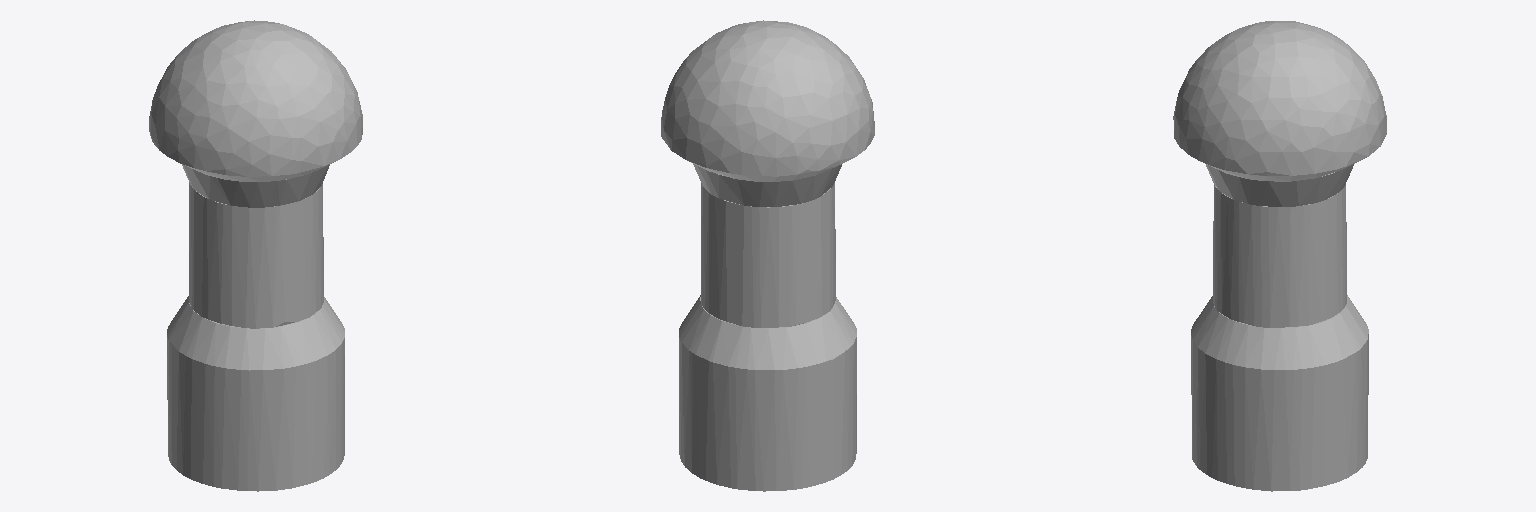
robot.urdf — root:
<robot name="root">
  <link name="link_mushroom_convex_piece_0">
    <inertial>
      <origin xyz="0 0 0" rpy="0 0 0"/>
      <mass value="5.68E-02"/>
      <inertia ixx="1.40E-04" ixy="3.68E-09" ixz="1.47E-09" iyy="1.40E-04" iyz="2.48E-08" izz="2.16E-05"/>
    </inertial>
    <visual>
      <origin xyz="0 0 0" rpy="0 0 0"/>
      <geometry>
        <mesh filename="mushroom_convex_piece_0.obj" scale="1.0000E+00 1.0000E+00 1.0000E+00"/>
      </geometry>
      <material name="">
        <color rgba="7.50E-01 7.50E-01 7.50E-01 1"/>
      </material>
    </visual>
    <collision>
      <origin xyz="0 0 0" rpy="0 0 0"/>
      <geometry>
        <mesh filename="mushroom_convex_piece_0.obj" scale="1.0000E+00 1.0000E+00 1.0000E+00"/>
      </geometry>
    </collision>
  </link>
  <link name="link_mushroom_convex_piece_1">
    <inertial>
      <origin xyz="0 0 0" rpy="0 0 0"/>
      <mass value="1.04E-02"/>
      <inertia ixx="8.94E-06" ixy="-1.10E-09" ixz="4.95E-10" iyy="8.94E-06" iyz="6.99E-10" izz="2.34E-06"/>
    </inertial>
    <visual>
      <origin xyz="0 0 0" rpy="0 0 0"/>
      <geometry>
        <mesh filename="mushroom_convex_piece_1.obj" scale="1.0000E+00 1.0000E+00 1.0000E+00"/>
      </geometry>
      <material name="">
        <color rgba="7.50E-01 7.50E-01 7.50E-01 1"/>
      </material>
    </visual>
    <collision>
      <origin xyz="0 0 0" rpy="0 0 0"/>
      <geometry>
        <mesh filename="mushroom_convex_piece_1.obj" scale="1.0000E+00 1.0000E+00 1.0000E+00"/>
      </geometry>
    </collision>
  </link>
  <joint name="link_mushroom_convex_piece_1_joint" type="fixed">
    <origin xyz="0 0 0" rpy="0 0 0"/>
    <parent link="link_mushroom_convex_piece_0"/>
    <child link="link_mushroom_convex_piece_1"/>
  </joint>
  <link name="link_mushroom_convex_piece_2">
    <inertial>
      <origin xyz="0 0 0" rpy="0 0 0"/>
      <mass value="3.35E-02"/>
      <inertia ixx="7.45E-06" ixy="3.29E-09" ixz="-1.00E-09" iyy="7.46E-06" iyz="-9.29E-10" izz="6.24E-06"/>
    </inertial>
    <visual>
      <origin xyz="0 0 0" rpy="0 0 0"/>
      <geometry>
        <mesh filename="mushroom_convex_piece_2.obj" scale="1.0000E+00 1.0000E+00 1.0000E+00"/>
      </geometry>
      <material name="">
        <color rgba="7.50E-01 7.50E-01 7.50E-01 1"/>
      </material>
    </visual>
    <collision>
      <origin xyz="0 0 0" rpy="0 0 0"/>
      <geometry>
        <mesh filename="mushroom_convex_piece_2.obj" scale="1.0000E+00 1.0000E+00 1.0000E+00"/>
      </geometry>
    </collision>
  </link>
  <joint name="link_mushroom_convex_piece_2_joint" type="fixed">
    <origin xyz="0 0 0" rpy="0 0 0"/>
    <parent link="link_mushroom_convex_piece_1"/>
    <child link="link_mushroom_convex_piece_2"/>
  </joint>
  <link name="link_mushroom_convex_piece_3">
    <inertial>
      <origin xyz="0 0 0" rpy="0 0 0"/>
      <mass value="7.11E-02"/>
      <inertia ixx="1.48E-04" ixy="3.34E-09" ixz="2.34E-08" iyy="1.48E-04" iyz="-5.17E-09" izz="2.23E-05"/>
    </inertial>
    <visual>
      <origin xyz="0 0 0" rpy="0 0 0"/>
      <geometry>
        <mesh filename="mushroom_convex_piece_3.obj" scale="1.0000E+00 1.0000E+00 1.0000E+00"/>
      </geometry>
      <material name="">
        <color rgba="7.50E-01 7.50E-01 7.50E-01 1"/>
      </material>
    </visual>
    <collision>
      <origin xyz="0 0 0" rpy="0 0 0"/>
      <geometry>
        <mesh filename="mushroom_convex_piece_3.obj" scale="1.0000E+00 1.0000E+00 1.0000E+00"/>
      </geometry>
    </collision>
  </link>
  <joint name="link_mushroom_convex_piece_3_joint" type="fixed">
    <origin xyz="0 0 0" rpy="0 0 0"/>
    <parent link="link_mushroom_convex_piece_2"/>
    <child link="link_mushroom_convex_piece_3"/>
  </joint>
</robot>

--- What the picture shows (computed from the rendered views, not written in the file) ---
The picture shows the robot from 3 angles, left to right: view 1: azimuth 30°, elevation 25°; view 2: azimuth 150°, elevation 25°; view 3: azimuth 270°, elevation 25°; orthographic projection.
Robot: root — 4 links, 3 joints (3 fixed); root link link_mushroom_convex_piece_0; default pose: all joints at 0.
Links seen in each view (by area): view 1: link_mushroom_convex_piece_3, link_mushroom_convex_piece_0, link_mushroom_convex_piece_2, link_mushroom_convex_piece_1; view 2: link_mushroom_convex_piece_3, link_mushroom_convex_piece_0, link_mushroom_convex_piece_2, link_mushroom_convex_piece_1; view 3: link_mushroom_convex_piece_3, link_mushroom_convex_piece_0, link_mushroom_convex_piece_2, link_mushroom_convex_piece_1.
Boxes of the visible links, x1,y1,x2,y2 form: link_mushroom_convex_piece_3: (167, 296, 344, 491); link_mushroom_convex_piece_0: (149, 20, 362, 181); link_mushroom_convex_piece_2: (189, 183, 323, 328); link_mushroom_convex_piece_1: (182, 165, 329, 207); link_mushroom_convex_piece_3: (679, 295, 856, 491); link_mushroom_convex_piece_0: (661, 20, 874, 181); link_mushroom_convex_piece_2: (701, 183, 835, 327); link_mushroom_convex_piece_1: (693, 164, 841, 206); link_mushroom_convex_piece_3: (1191, 295, 1368, 491); link_mushroom_convex_piece_0: (1173, 21, 1386, 181); link_mushroom_convex_piece_2: (1213, 185, 1346, 327); link_mushroom_convex_piece_1: (1206, 164, 1353, 206).
Size in the robot's own frame: 0.0613 by 0.0613 by 0.1342 metres.
Meshes: 4 distinct files referenced, 4 mesh visuals loaded (4 OBJ).
